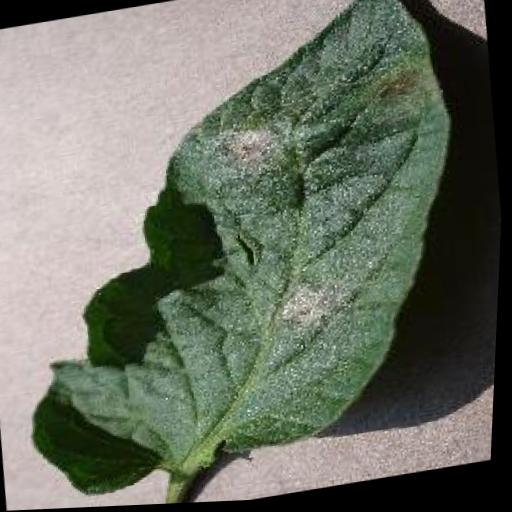Late Blight: (0, 0, 496, 506)
